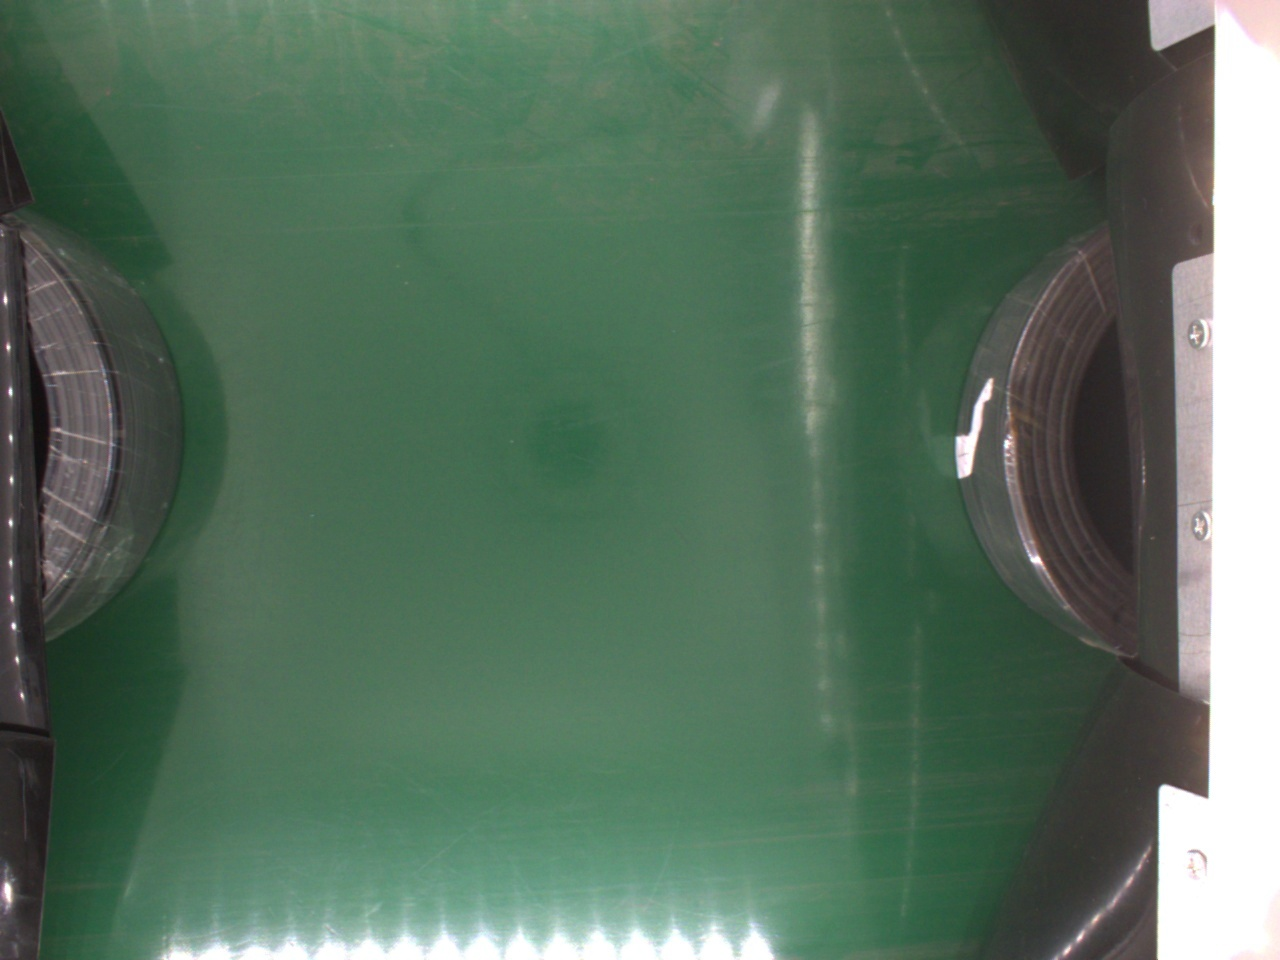black: (959, 223, 1147, 669), (18, 215, 185, 659)
